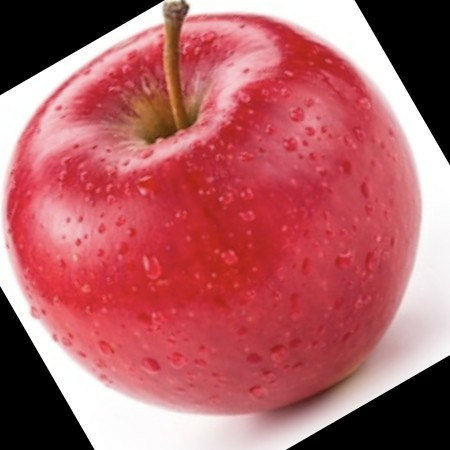fresh_apple: (2, 16, 422, 416)
